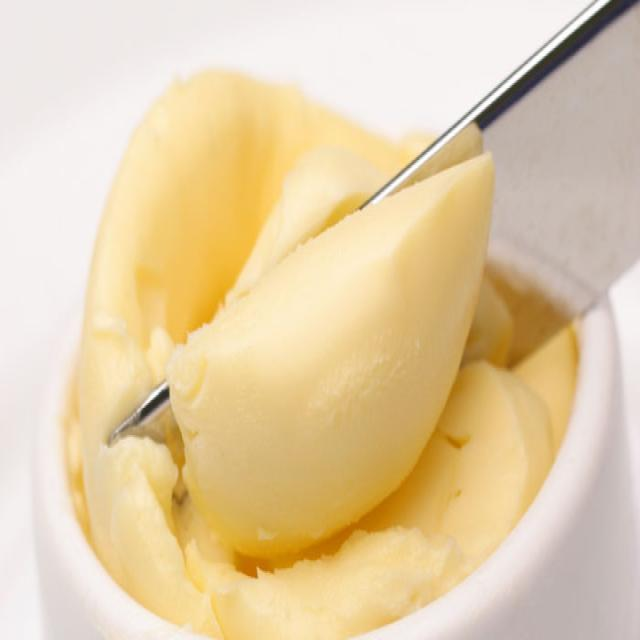Butter: (79, 87, 566, 618)
